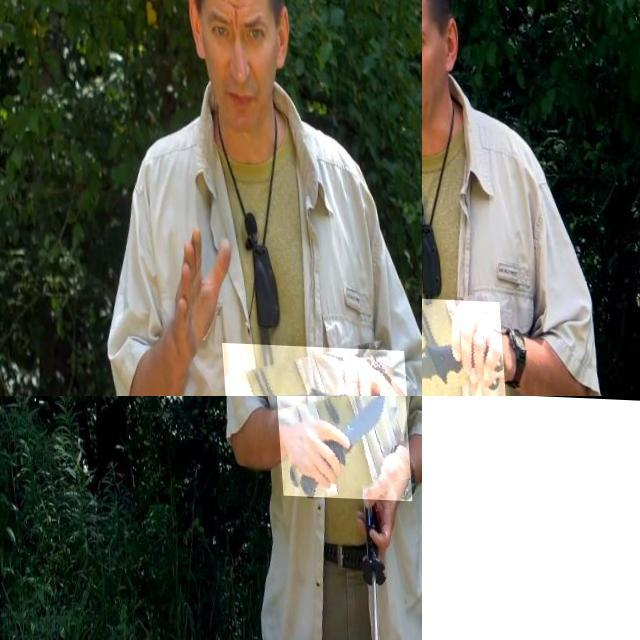-: (422, 396, 640, 640), (271, 396, 406, 497), (215, 339, 403, 396), (422, 293, 503, 396)
